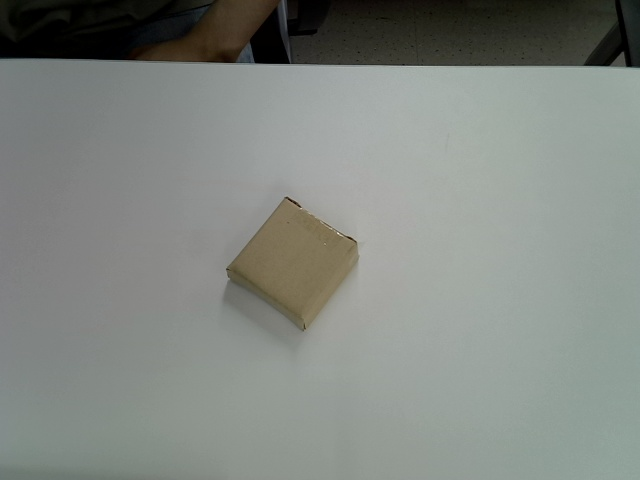normal: (226, 197, 359, 332)
